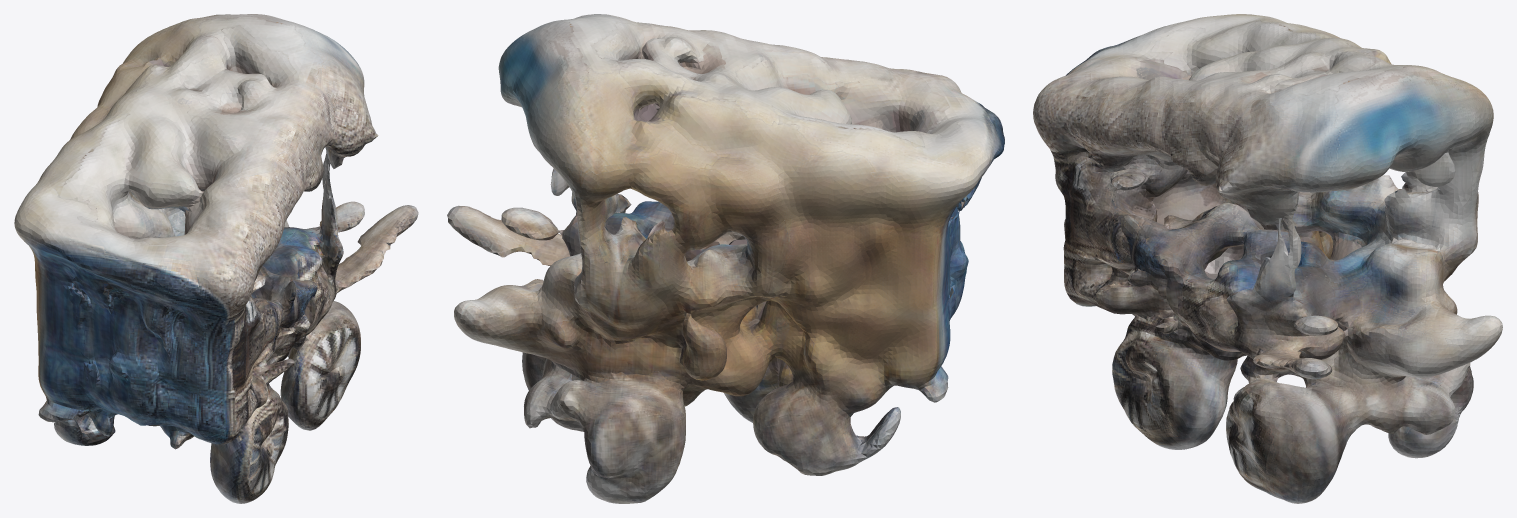
Rendered from carts.glb.
The picture shows the model from 3 angles, left to right: view 1: azimuth 30°, elevation 25°; view 2: azimuth 150°, elevation 25°; view 3: azimuth 270°, elevation 25°; orthographic projection. The views are drawn at different scales.
Bounding box in the file's own units: 1.38 × 1.19 × 1.2.
Materials: 1 (1 with a texture image).
